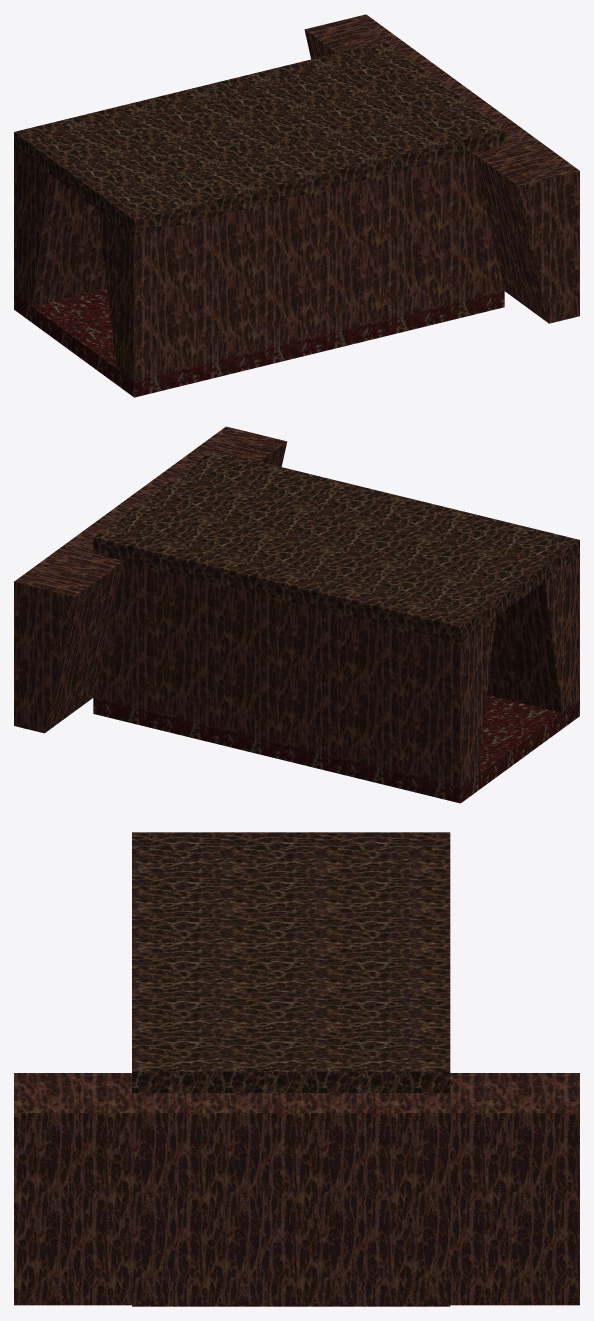
Rendered from flesh.obj.
The picture shows the model from 3 angles, top to bottom: view 1: azimuth 30°, elevation 25°; view 2: azimuth 150°, elevation 25°; view 3: azimuth 270°, elevation 25°; orthographic projection. The views are drawn at different scales.
Visible parts, largest first — view 1: entity0_brush3, entity0_brush1, entity0_brush4, entity0_brush0, entity0_brush2; view 2: entity0_brush2, entity0_brush1, entity0_brush4, entity0_brush0, entity0_brush3; view 3: entity0_brush4, entity0_brush1, entity0_brush0.
Boxes of the visible parts, x1=… form: entity0_brush3: x1=98, y1=153, x2=504, y2=381; entity0_brush1: x1=14, y1=41, x2=504, y2=235; entity0_brush4: x1=304, y1=14, x2=579, y2=323; entity0_brush0: x1=14, y1=288, x2=504, y2=397; entity0_brush2: x1=14, y1=148, x2=107, y2=306; entity0_brush2: x1=93, y1=561, x2=495, y2=787; entity0_brush1: x1=93, y1=450, x2=579, y2=643; entity0_brush4: x1=14, y1=426, x2=287, y2=733; entity0_brush0: x1=93, y1=695, x2=579, y2=803; entity0_brush3: x1=487, y1=556, x2=579, y2=712; entity0_brush4: x1=14, y1=1073, x2=579, y2=1305; entity0_brush1: x1=132, y1=832, x2=450, y2=1092; entity0_brush0: x1=132, y1=1305, x2=450, y2=1306.
Bounding box in the file's own units: 624 × 264 × 576.
